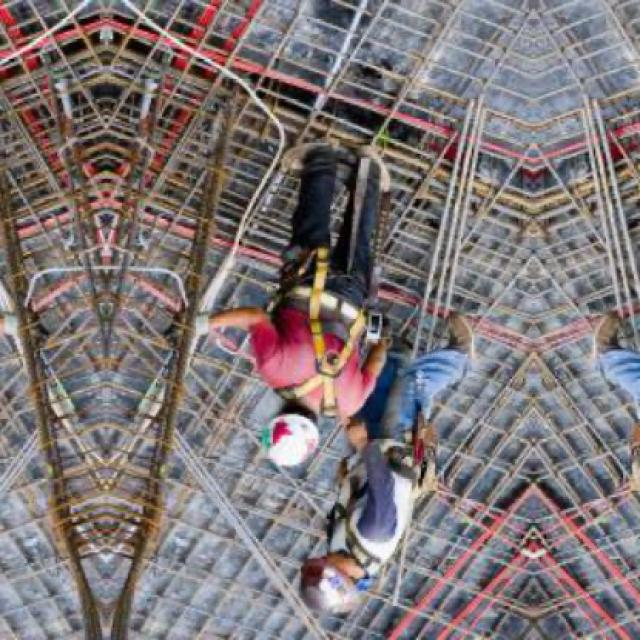con casco: (276, 518, 394, 630), (270, 366, 346, 482)
